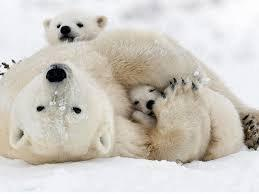bear: (0, 39, 259, 174), (120, 72, 251, 165), (38, 13, 113, 50)
